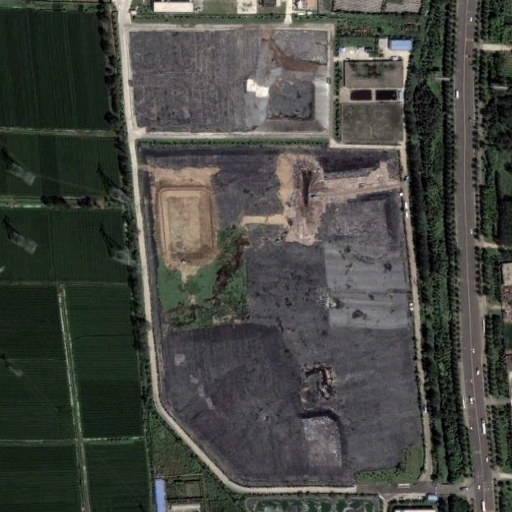lf: (138, 140, 432, 483), (128, 27, 333, 133)
